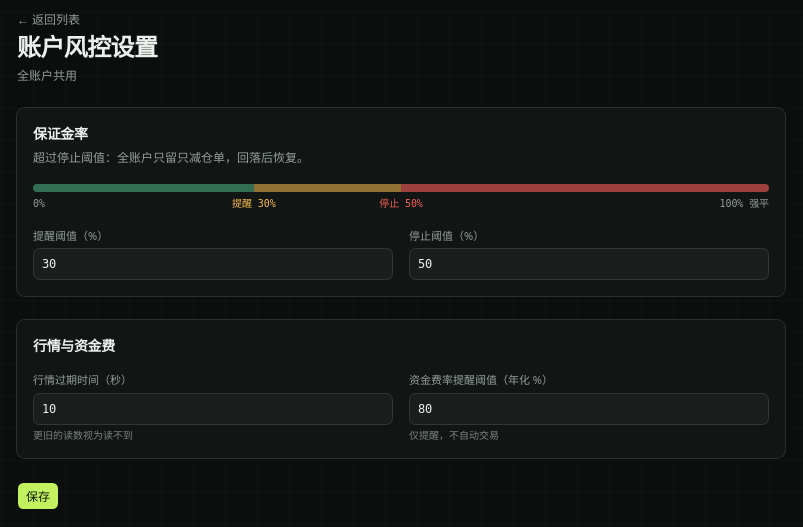
Test: 账户风控设置 › 显示当前设置，改完保存时把百分比换成比率交给服务端
The width and height of the screenshot is (803, 527).
Expected: the field showing "50" is shown, [409,248,769,280]
Expected: the field showing "10" is shown, [33,392,393,424]
Clear the field showing "30" at {"x": 213, "y": 264}, box [33,248,393,280]
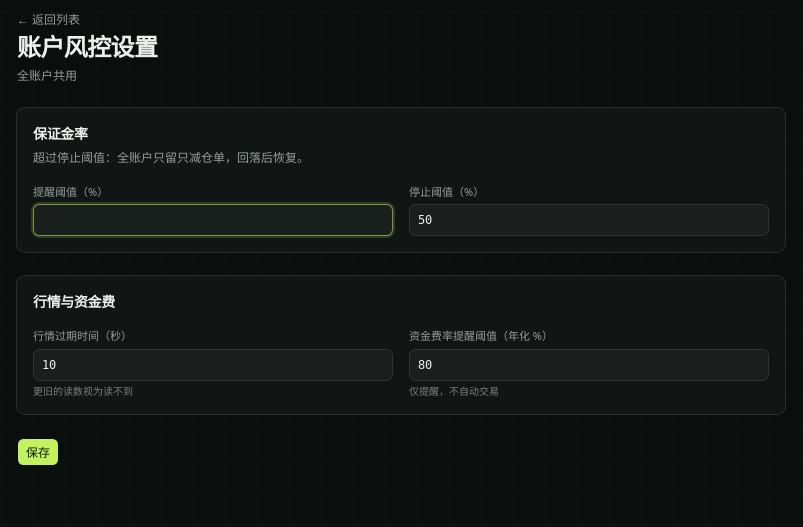
Type "25" into the field showing "30" at {"x": 213, "y": 220}, box [33,204,393,236]
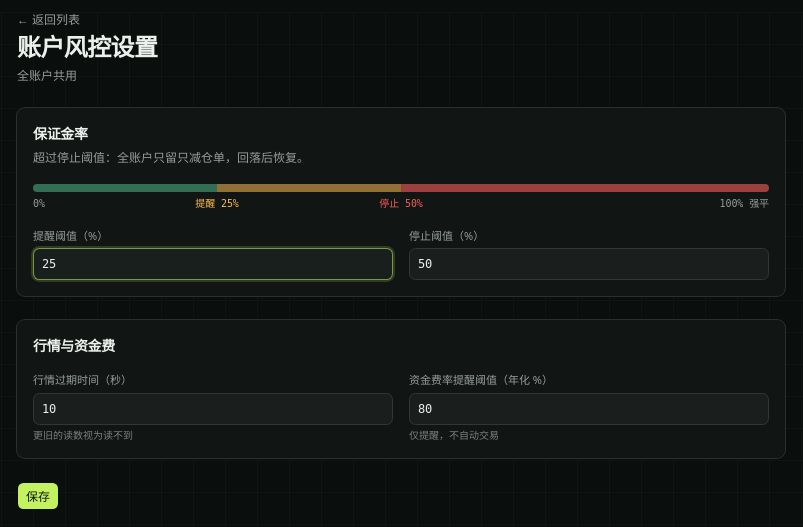
Click the button "保存" at {"x": 38, "y": 496}, box [17,482,59,510]
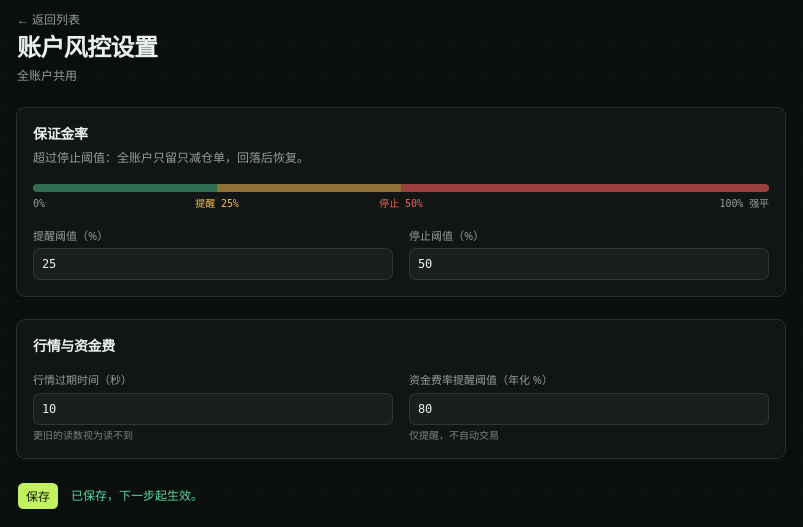
Result: the text "已保存，下一步起生效。" is shown at [71,488,203,504]
